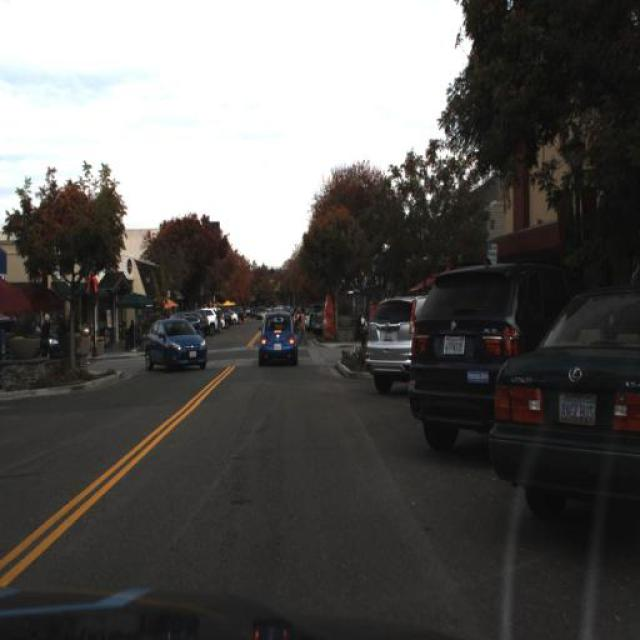car: (494, 281, 640, 529), (407, 262, 497, 454), (362, 291, 448, 397), (141, 314, 209, 374), (253, 300, 302, 374)
trafficLight: (42, 312, 52, 352), (301, 311, 307, 347), (293, 307, 299, 332)
